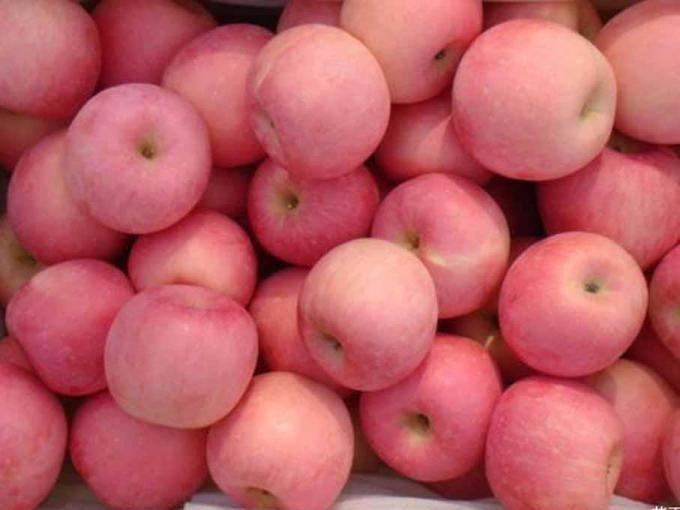apple: (450, 17, 614, 185), (60, 84, 216, 235), (101, 283, 258, 432), (352, 334, 502, 489), (247, 22, 392, 182), (495, 230, 647, 379), (296, 242, 440, 392), (202, 371, 357, 504), (369, 172, 507, 318), (537, 135, 677, 267), (485, 375, 625, 505), (7, 260, 134, 398), (67, 391, 205, 508), (9, 126, 127, 259), (160, 24, 270, 165), (340, 1, 486, 107), (250, 158, 377, 263), (1, 1, 101, 120), (132, 212, 257, 304), (477, 1, 601, 40)
